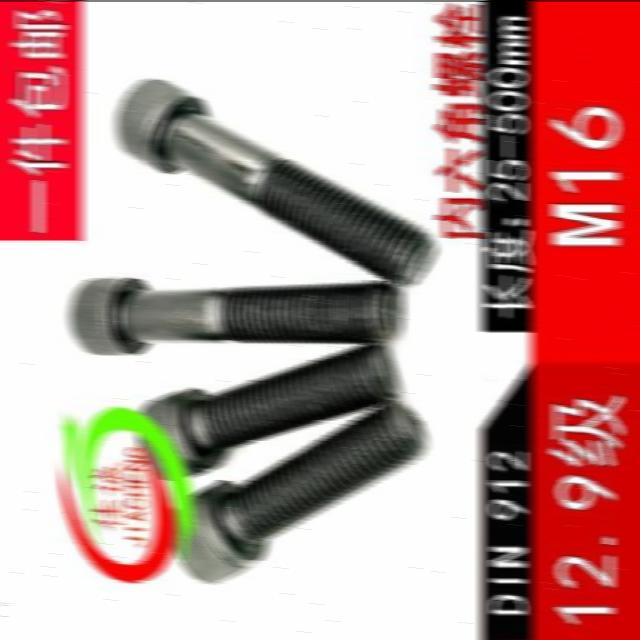Bolt: (114, 77, 442, 286), (170, 396, 434, 586), (135, 341, 403, 481), (67, 272, 405, 356)
